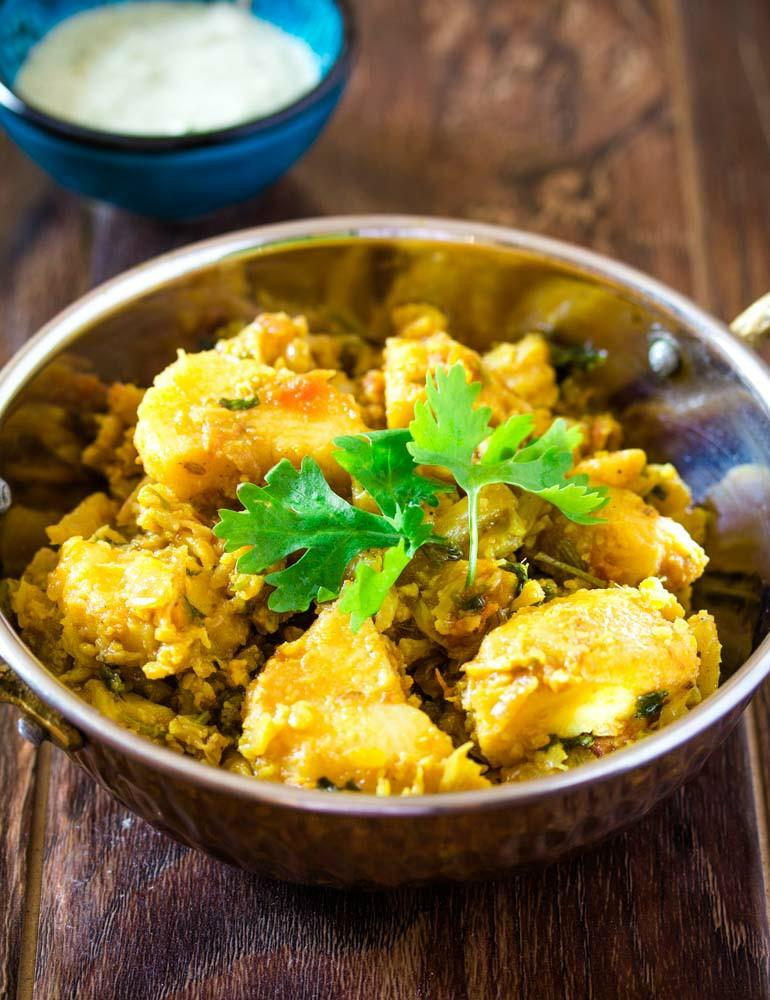AlooGobi: (13, 302, 723, 797)
